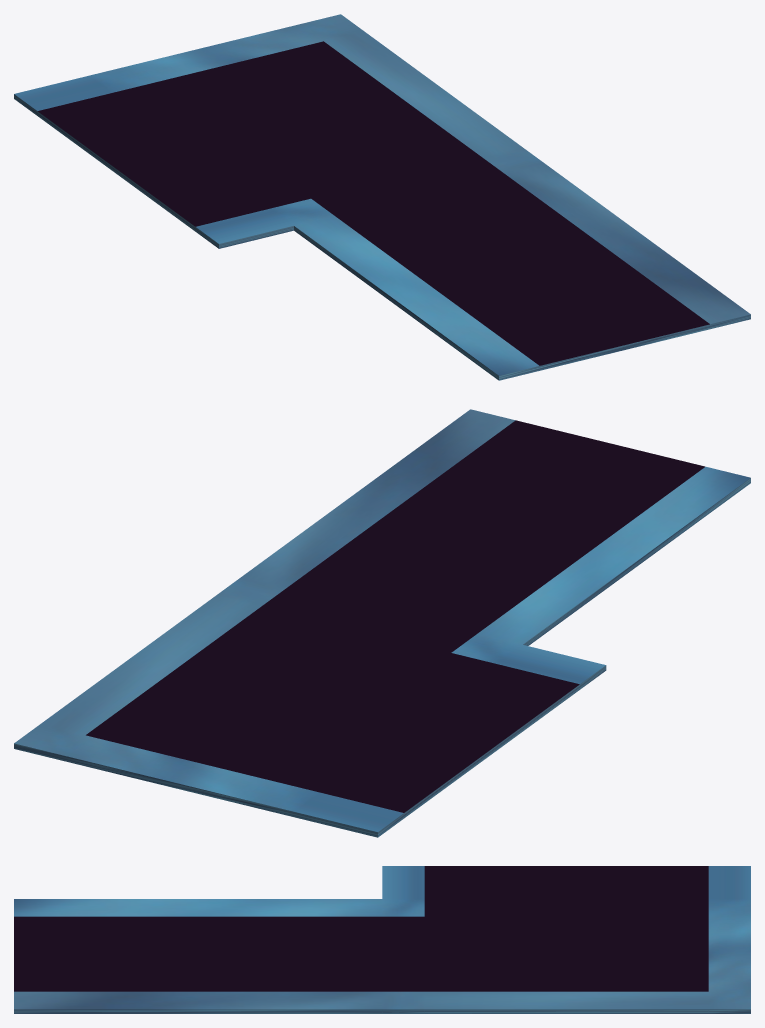
File: RouteDroiteBas.dae
3 views of the same model, one above another, from view 1: azimuth 30°, elevation 25°; view 2: azimuth 150°, elevation 25°; view 3: azimuth 270°, elevation 25° (orthographic). The views are drawn at different scales.
Visible parts, largest first — view 1: Cube; view 2: Cube; view 3: Cube.
Boxes of the visible parts, x1=… form: Cube: x1=14, y1=14, x2=750, y2=380; Cube: x1=14, y1=409, x2=750, y2=837; Cube: x1=14, y1=866, x2=750, y2=1013.
Bounding box in the file's own units: 1.64 × 3.57 × 0.0237.
2 materials, 1 textured.
